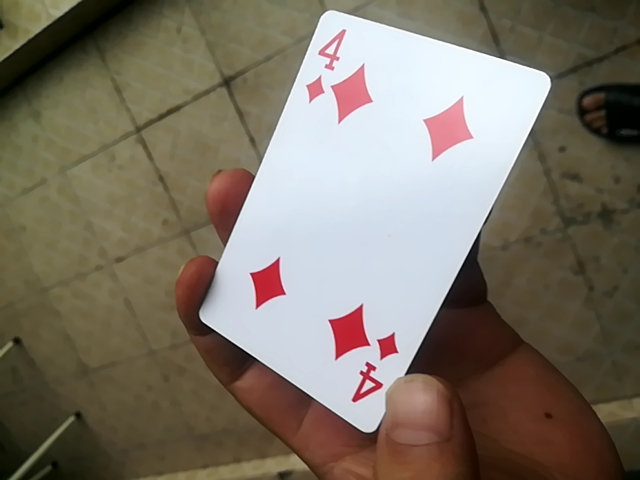fk 4: (190, 3, 559, 448)
